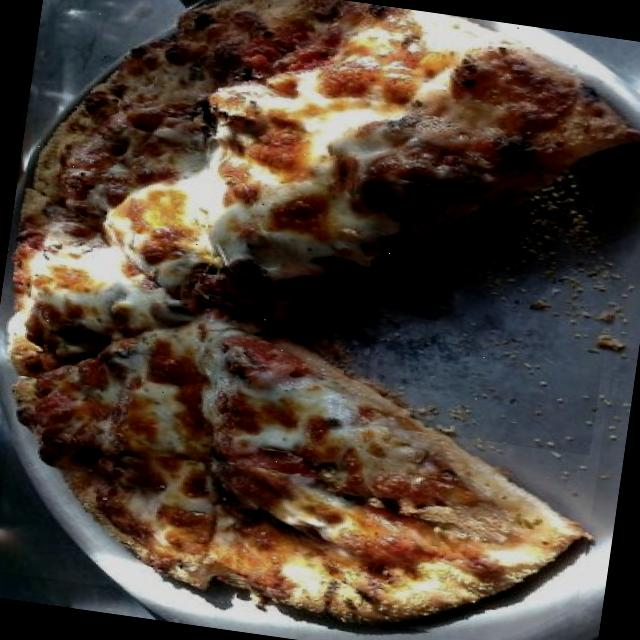cheese: (168, 76, 418, 287), (49, 158, 278, 384), (92, 308, 379, 484)
pizza: (12, 0, 634, 377), (15, 318, 587, 623)
